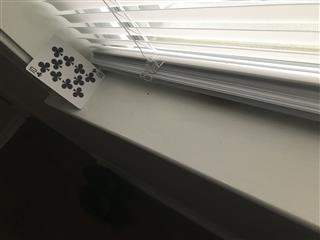TenOfClubs: (24, 34, 107, 110)
